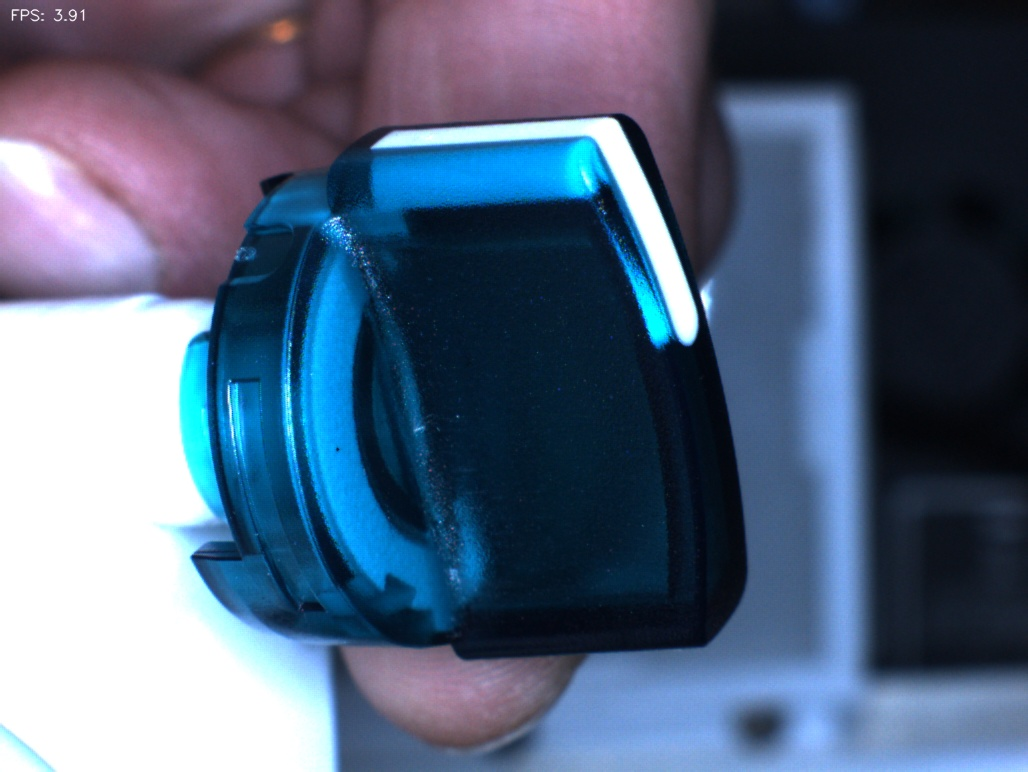PointNoir: (305, 412, 370, 486)
